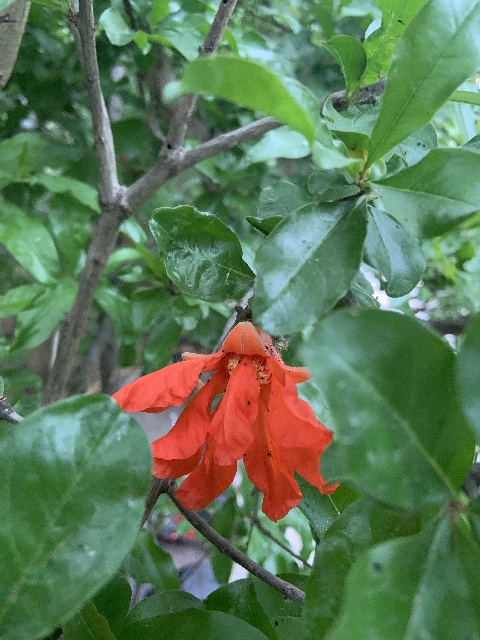flower: (111, 321, 338, 521)
